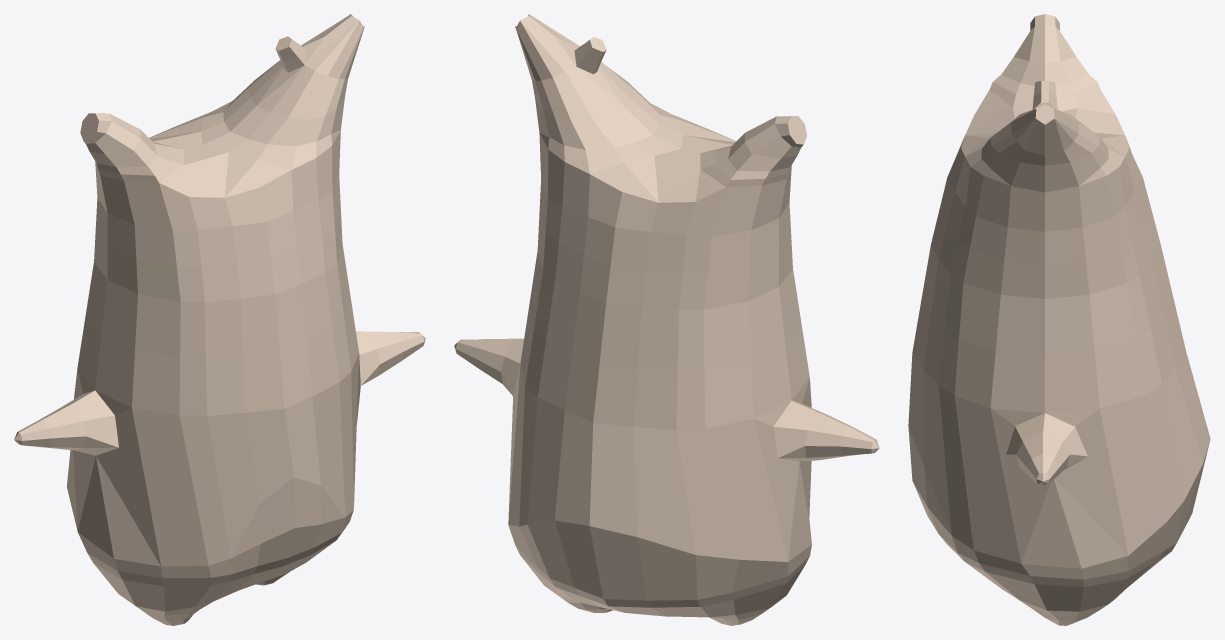
The model's file is frame_0032.obj.
3 views of the same model, side by side, from view 1: azimuth 30°, elevation 25°; view 2: azimuth 150°, elevation 25°; view 3: azimuth 270°, elevation 25° (orthographic). The views are drawn at different scales.
Parts seen in each view (by area): view 1: korok; view 2: korok; view 3: korok.
Boxes of the visible parts, x1,y1,x2,y2 form: korok: (14, 14, 425, 625); korok: (454, 14, 879, 625); korok: (908, 14, 1210, 625).
Bounding box in the file's own units: 1.68 × 2.16 × 1.06.
